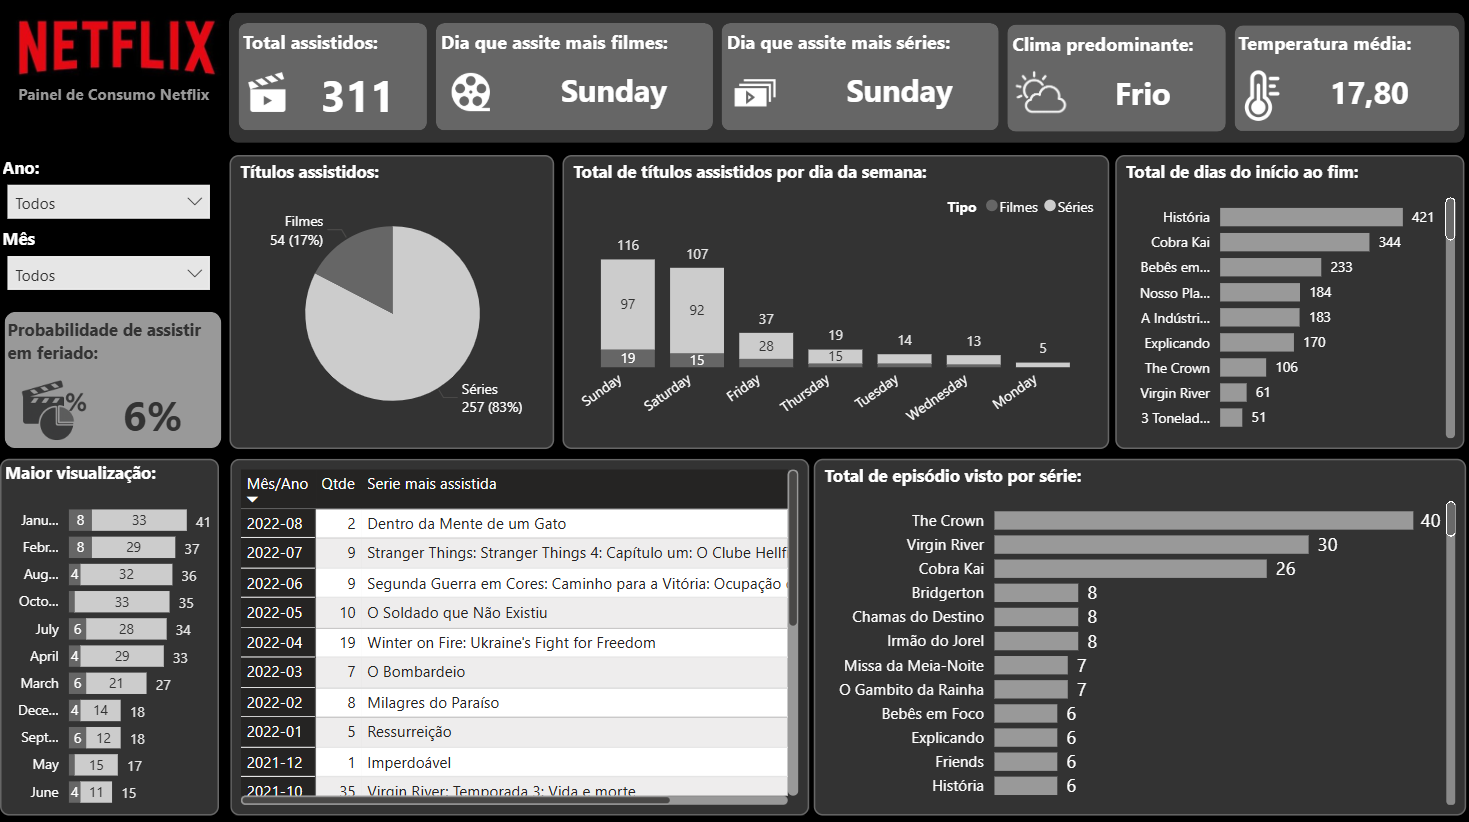

The page's visual inventory and layout, read from the dashboard file:
{"tool":"powerbi","page":{"name":"NetFlix","canvas":[1280,720],"ordinal":0},"visuals":[{"type":"shape","box":[199,12,1076.4,113.8],"z":0},{"type":"shape","box":[379.4,20.9,241.5,93.5],"z":0,"group":"g2"},{"type":"group","id":"g1","title":"Group 3","box":[628.1,20.9,251.5,93.5],"z":0,"group":"g3"},{"type":"shape","box":[628.1,20.9,241.5,93.5],"z":0,"group":"g1"},{"type":"shape","box":[877.1,22.4,190.3,93.4],"z":0,"group":"g5"},{"type":"shape","box":[1074.9,22.9,195.7,92.5],"z":0,"group":"g4"},{"type":"textbox","box":[383.9,20.9,246.9,35.4],"z":1000,"group":"g2"},{"type":"textbox","box":[632.6,20.9,246.9,35.4],"z":1000,"group":"g1"},{"type":"textbox","box":[1078.3,21.7,185.8,46.7],"z":1000,"group":"g4"},{"type":"textbox","box":[881.6,22.4,185.8,46.7],"z":1000,"group":"g5"},{"type":"image","box":[630.7,48.1,53.6,66.3],"z":1000,"group":"g3"},{"type":"pieChart","title":"Títulos assistidos:","fields":{"Category":["NetflixViewingHistory.Tipo"],"Y":["NetflixViewingHistory.Total Assistidos"]},"box":[199.9,136.1,283.2,255.4],"z":1000},{"type":"shape","box":[207.9,20.9,164.3,93.5],"z":2000},{"type":"card","fields":{"Values":["NetflixViewingHistory.DiaMaisAssistido_Filmes"]},"box":[450.2,42.7,168.9,70.8],"z":2000,"group":"g2"},{"type":"card","fields":{"Values":["NetflixViewingHistory.DiaMaisAssistido_Séries"]},"box":[698.9,42.7,168.9,70.8],"z":2000,"group":"g1"},{"type":"card","fields":{"Values":["NetflixViewingHistory.Temperatura Média_medida"]},"box":[1119.6,44.1,144.5,70.9],"z":2000,"group":"g4"},{"type":"card","fields":{"Values":["NetflixViewingHistory.Clima Predominante_medida"]},"box":[922.9,44.8,144.5,70.9],"z":2000,"group":"g5"},{"type":"image","box":[387.6,48.1,43.6,66.3],"z":3000,"group":"g2"},{"type":"shape","box":[3.6,272.3,188.8,118.9],"z":3000},{"type":"image","box":[0,0,199.7,81.7],"z":4000},{"type":"columnChart","title":"Total de títulos assistidos por dia da semana:","fields":{"Y":["NetflixViewingHistory.Total Assistidos"],"Series":["NetflixViewingHistory.Tipo"],"Category":["NetflixViewingHistory.Dia da Semana"]},"box":[489.6,136.1,475.7,255.4],"z":5000},{"type":"pivotTable","title":"Total de títulos assistidos por dia da semana:","fields":{"Rows":["NetflixViewingHistory.AnoMes"],"Values":["NetflixViewingHistory.Qtd episódios por série","NetflixViewingHistory.Serie Mais Assistida1"]},"box":[200.2,400.4,503.6,310.6],"z":6000},{"type":"clusteredBarChart","title":"Total de episódio visto por série:","fields":{"Category":["NetflixViewingHistory.Série Base"],"Y":["NetflixViewingHistory.Total Assistidos"]},"box":[708.3,400.4,567.4,310.6],"z":7000},{"type":"group","id":"g2","title":"Group 2","box":[379.4,20.9,251.5,93.5],"z":8000},{"type":"cardVisual","fields":{"Data":["NetflixViewingHistory.Total Assistidos"]},"box":[251.6,28.2,120.7,96.2],"z":9000,"group":"g6"},{"type":"cardVisual","fields":{"Data":["NetflixViewingHistory.Probabilidade em Feriado %"]},"box":[72.7,312.4,121.2,79],"z":9000},{"type":"textbox","box":[211.9,20.6,160.7,35.9],"z":10000,"group":"g6"},{"type":"textbox","box":[12.7,68.1,177,45.4],"z":10000},{"type":"image","box":[209.8,47.3,44.5,66.3],"z":11000,"group":"g6"},{"type":"textbox","box":[6.4,272.3,184.3,57.2],"z":11000},{"type":"group","id":"g3","title":"Group 4","box":[628.1,20.9,251.5,93.5],"z":12000},{"type":"slicer","title":"Ano:","fields":{"Values":["NetflixViewingHistory.Ano"]},"box":[0,136.2,189.7,65.4],"z":13000},{"type":"slicer","title":"Mês","fields":{"Values":["NetflixViewingHistory.Mês"]},"box":[0,198.8,189.7,65.4],"z":14000},{"type":"clusteredBarChart","title":"Total de dias do início ao fim:","fields":{"Category":["NetflixViewingHistory.Série Base"],"Y":["NetflixViewingHistory.Dias (Início→Fim) Série"]},"box":[970.9,136.1,304.5,255.4],"z":15000},{"type":"barChart","title":"Maior visualização:","fields":{"Category":["NetflixViewingHistory.Ano","NetflixViewingHistory.Mês"],"Series":["NetflixViewingHistory.Tipo"],"Y":["NetflixViewingHistory.Total Assistidos"]},"box":[0,400.4,190.3,310.6],"z":16000},{"type":"image","box":[0,310.5,93.5,99.9],"z":17000},{"type":"group","id":"g4","title":"Group 1","box":[1074.9,21.7,195.7,93.7],"z":18000},{"type":"group","id":"g5","title":"Group 5","box":[877.1,22.4,190.3,93.4],"z":19000},{"type":"group","id":"g6","title":"Group 6","box":[209.8,20.6,162.8,103.8],"z":20000},{"type":"image","box":[1068.3,56.6,54.8,54.8],"z":21000},{"type":"image","box":[877.1,50.3,58.4,62.8],"z":22000}]}

Visuals, with their boxes in screenshot pixels (x1, y1, x2, y2), scaled from the page's 1280x720 canvas onto the 1469x822 screenshot:
shape: rect(228, 14, 1464, 144)
shape: rect(435, 24, 713, 131)
"Group 3" group: rect(721, 24, 1009, 131)
shape: rect(721, 24, 998, 131)
shape: rect(1007, 26, 1225, 132)
shape: rect(1234, 26, 1458, 132)
textbox: rect(441, 24, 724, 64)
textbox: rect(726, 24, 1009, 64)
textbox: rect(1238, 25, 1451, 78)
textbox: rect(1012, 26, 1225, 79)
image: rect(724, 55, 785, 131)
"Títulos assistidos:" pieChart: rect(229, 155, 554, 447)
shape: rect(239, 24, 427, 131)
card - NetflixViewingHistory.DiaMaisAssistido_Filmes: rect(517, 49, 711, 130)
card - NetflixViewingHistory.DiaMaisAssistido_Séries: rect(802, 49, 996, 130)
card - NetflixViewingHistory.Temperatura Média_medida: rect(1285, 50, 1451, 131)
card - NetflixViewingHistory.Clima Predominante_medida: rect(1059, 51, 1225, 132)
image: rect(445, 55, 495, 131)
shape: rect(4, 311, 221, 447)
image: rect(0, 0, 229, 93)
"Total de títulos assistidos por dia da semana:" columnChart: rect(562, 155, 1108, 447)
"Total de títulos assistidos por dia da semana:" pivotTable: rect(230, 457, 808, 812)
"Total de episódio visto por série:" clusteredBarChart: rect(813, 457, 1464, 812)
"Group 2" group: rect(435, 24, 724, 131)
cardVisual - NetflixViewingHistory.Total Assistidos: rect(289, 32, 427, 142)
cardVisual - NetflixViewingHistory.Probabilidade em Feriado %: rect(83, 357, 223, 447)
textbox: rect(243, 24, 428, 65)
textbox: rect(15, 78, 218, 130)
image: rect(241, 54, 292, 130)
textbox: rect(7, 311, 219, 376)
"Group 4" group: rect(721, 24, 1009, 131)
"Ano:" slicer: rect(0, 155, 218, 230)
"Mês" slicer: rect(0, 227, 218, 302)
"Total de dias do início ao fim:" clusteredBarChart: rect(1114, 155, 1464, 447)
"Maior visualização:" barChart: rect(0, 457, 218, 812)
image: rect(0, 354, 107, 469)
"Group 1" group: rect(1234, 25, 1458, 132)
"Group 5" group: rect(1007, 26, 1225, 132)
"Group 6" group: rect(241, 24, 428, 142)
image: rect(1226, 65, 1289, 127)
image: rect(1007, 57, 1074, 129)
